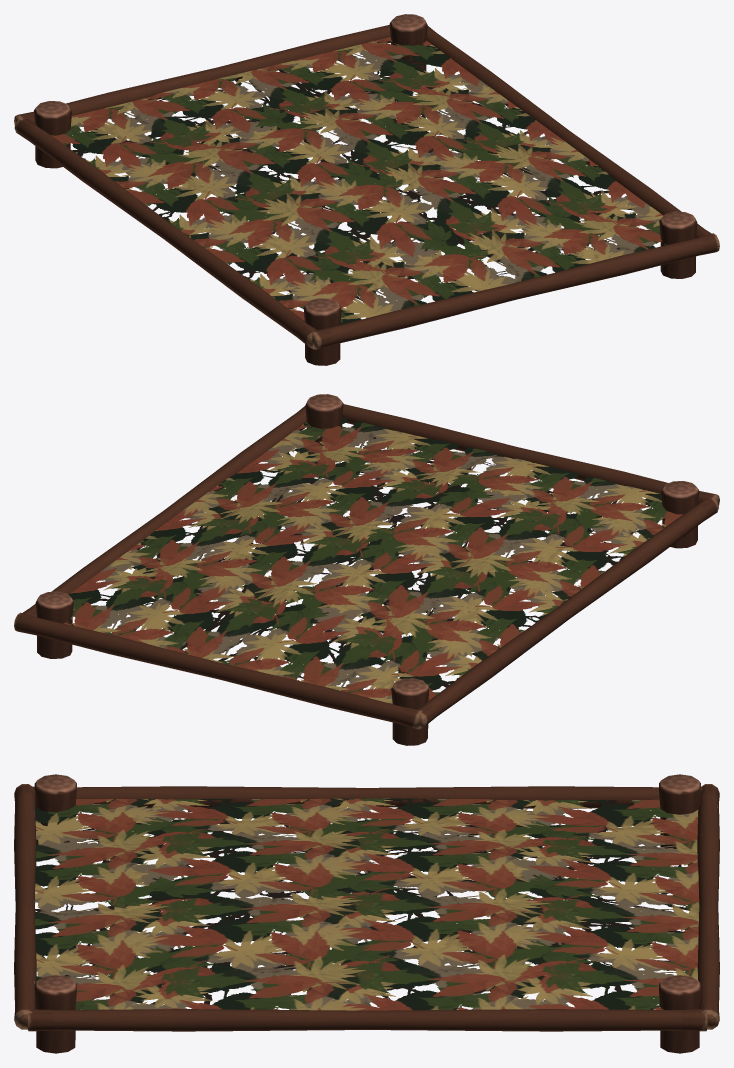
Rendered from trampa.fbx.
3 views of the same model, one above another, from view 1: azimuth 30°, elevation 25°; view 2: azimuth 150°, elevation 25°; view 3: azimuth 270°, elevation 25° (orthographic). The views are drawn at different scales.
Visible parts, largest first — view 1: pPlane1, Group7, Group6, Group8, trampa:Group3, Group2, Group4, Group5, Group3; view 2: pPlane1, Group8, Group6, Group7, trampa:Group3, Group3, Group5, Group4, Group2; view 3: pPlane1, trampa:Group3, Group6, Group7, Group8, Group2, Group3, Group5, Group4.
Part boxes in pixels (left/top/right/bottom): pPlane1: left=51, top=37, right=667, bottom=324; Group7: left=311, top=233, right=719, bottom=349; Group6: left=14, top=118, right=316, bottom=349; Group8: left=14, top=25, right=390, bottom=125; trampa:Group3: left=426, top=26, right=711, bottom=237; Group2: left=659, top=211, right=697, bottom=278; Group4: left=303, top=298, right=341, bottom=365; Group5: left=34, top=101, right=71, bottom=168; Group3: left=389, top=14, right=427, bottom=70; pPlane1: left=64, top=417, right=683, bottom=703; Group8: left=14, top=612, right=422, bottom=729; Group6: left=417, top=497, right=718, bottom=728; Group7: left=342, top=404, right=719, bottom=506; trampa:Group3: left=22, top=406, right=306, bottom=617; Group3: left=35, top=591, right=73, bottom=658; Group5: left=391, top=678, right=429, bottom=745; Group4: left=661, top=481, right=699, bottom=548; Group2: left=305, top=394, right=343, bottom=442; pPlane1: left=34, top=798, right=699, bottom=1010; trampa:Group3: left=27, top=1009, right=707, bottom=1031; Group6: left=31, top=786, right=702, bottom=808; Group7: left=14, top=784, right=36, bottom=1029; Group8: left=697, top=784, right=719, bottom=1029; Group2: left=34, top=975, right=76, bottom=1053; Group3: left=659, top=975, right=700, bottom=1053; Group5: left=659, top=774, right=700, bottom=848; Group4: left=34, top=774, right=76, bottom=847.
Size of the model in its own units: 14.12 by 1.75 by 18.13.
Materials: 2 (2 with a texture image).
